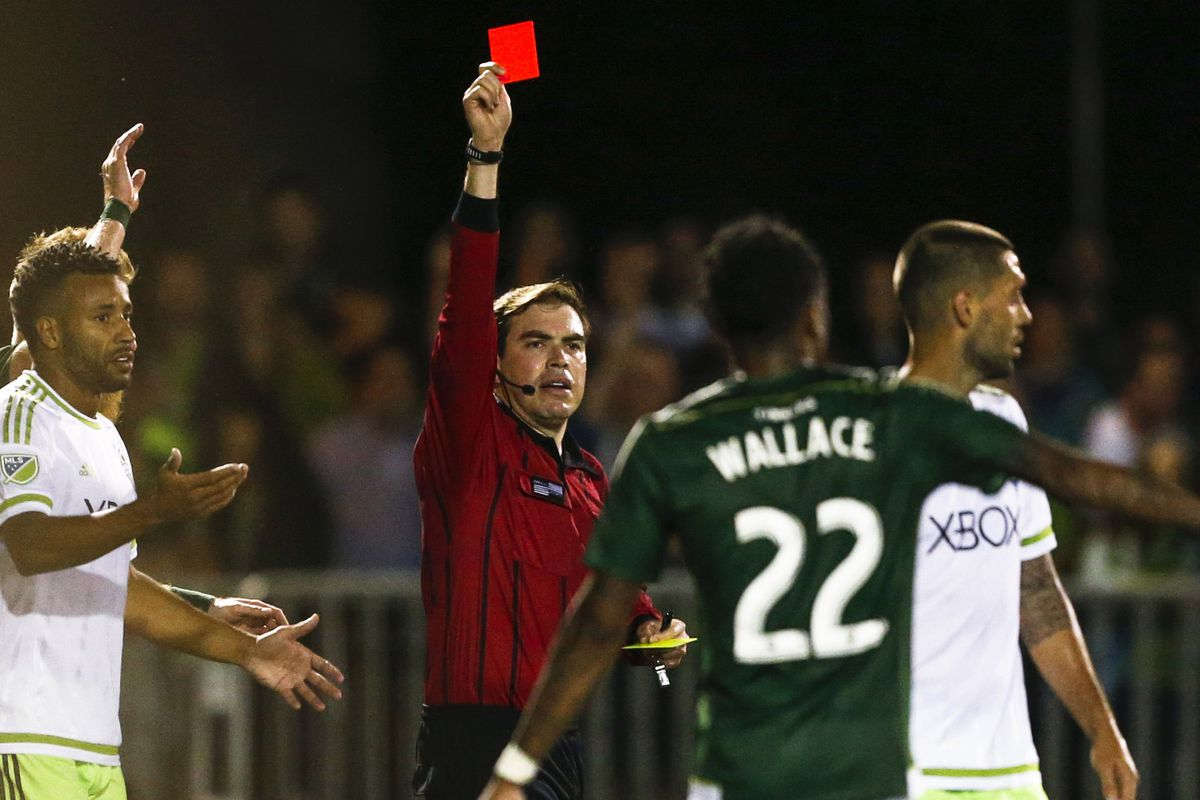red_card: (446, 12, 551, 155)
